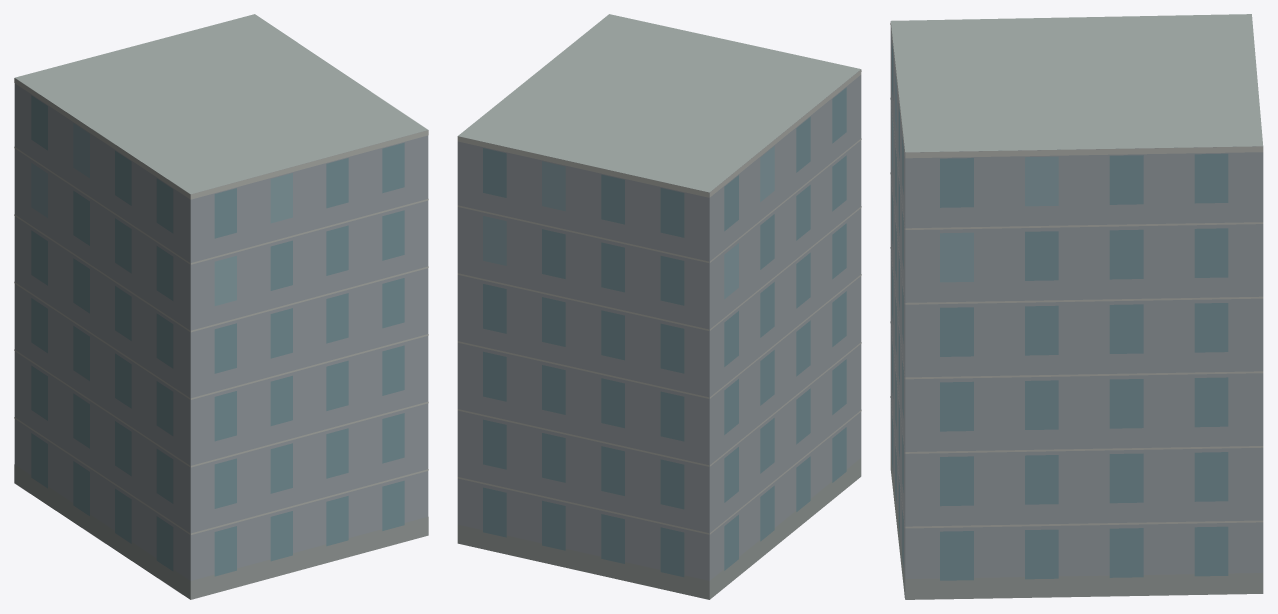
The model's file is survey-upis-32767318.glb.
3 renders of one model, left to right at view 1: azimuth 30°, elevation 25°; view 2: azimuth 150°, elevation 25°; view 3: azimuth 270°, elevation 25°, orthographic. The views are drawn at different scales.
Visible parts, largest first — view 1: survey-upis-32767318.tmp; view 2: survey-upis-32767318.tmp; view 3: survey-upis-32767318.tmp.
Part boxes in pixels (box(x1,y1,x2,y2)): survey-upis-32767318.tmp: box(14, 14, 428, 599); survey-upis-32767318.tmp: box(457, 14, 861, 599); survey-upis-32767318.tmp: box(890, 14, 1263, 599).
Bounding box in the file's own units: 12.29 × 18.5 × 13.98.
